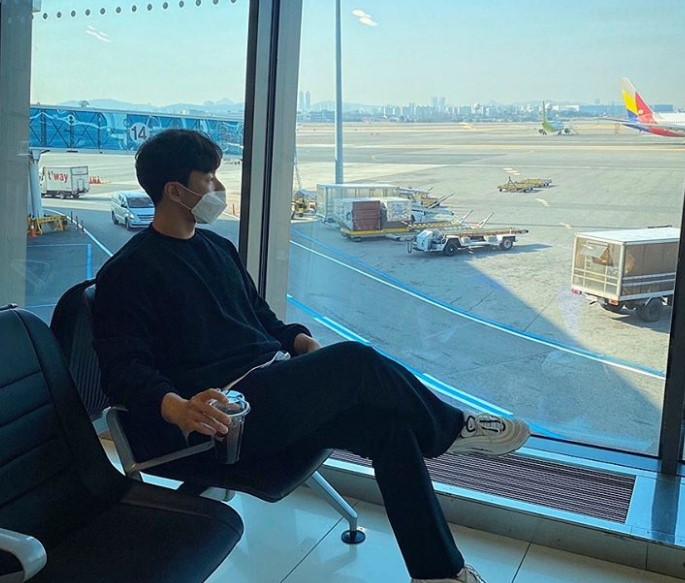face_with_mask: (145, 136, 231, 230)
